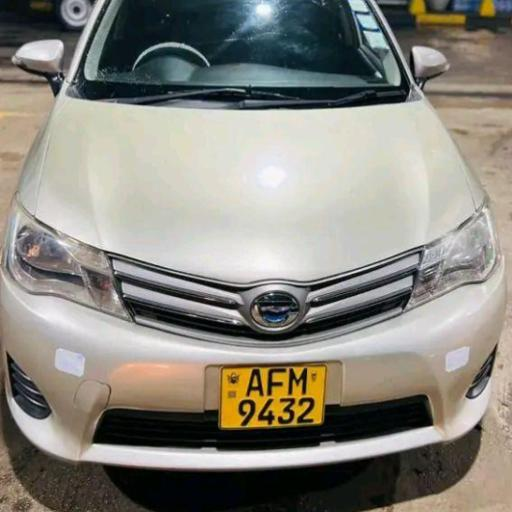number-plates: (218, 362, 325, 424)
